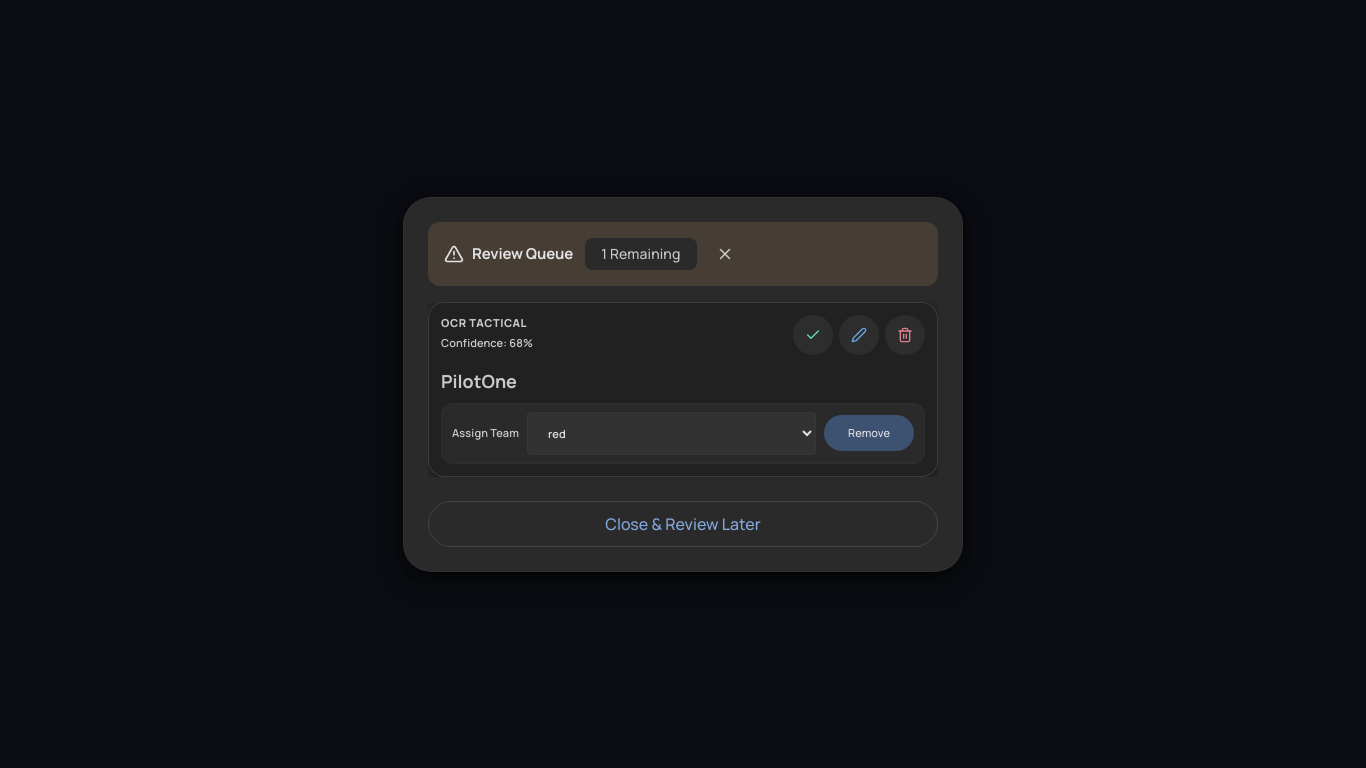
it: ReviewQueueModal › keeps team assignment controls visible while editing player_name entries
Click the button "PilotOne". click: (479, 380)
box: 441,366 -> 517,394
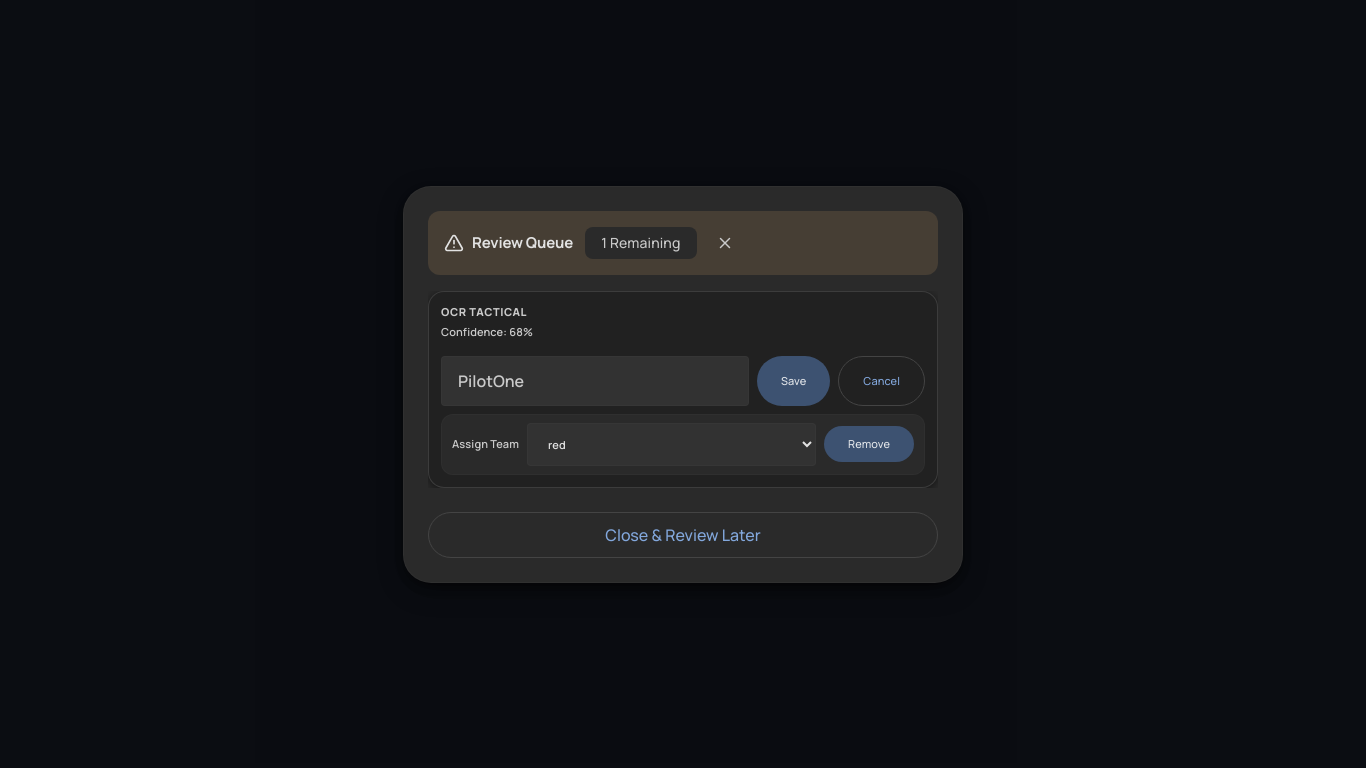
Expected: the text "Assign Team" is shown, 452,436 -> 519,452
Expected: the field named "Edit name for PilotOne" is shown, 441,356 -> 749,406
